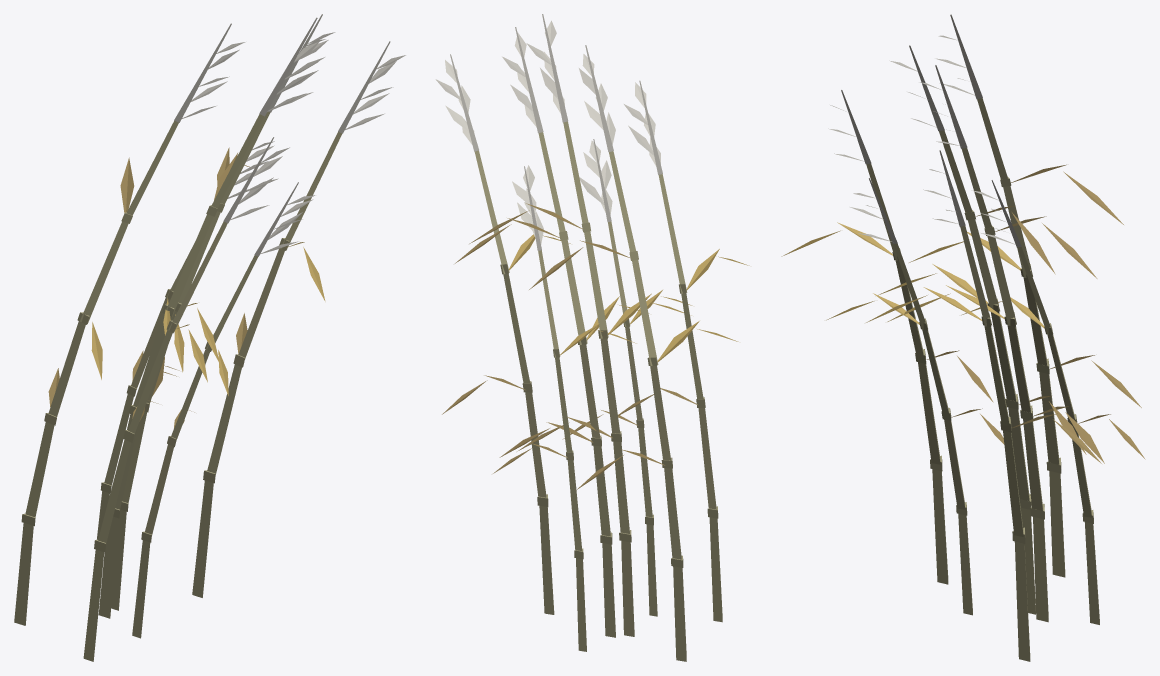
File: shui.luweicong@fruiting__autumn.glb
The picture shows the model from 3 angles, left to right: view 1: azimuth 30°, elevation 25°; view 2: azimuth 150°, elevation 25°; view 3: azimuth 270°, elevation 25°; orthographic projection. The views are drawn at different scales.
Visible parts, largest first — view 1: shui.luweicong@fruiting__autumn; view 2: shui.luweicong@fruiting__autumn; view 3: shui.luweicong@fruiting__autumn.
Boxes of the visible parts, <box> form: shui.luweicong@fruiting__autumn: <box>14,14,405,661</box>; shui.luweicong@fruiting__autumn: <box>435,14,749,661</box>; shui.luweicong@fruiting__autumn: <box>781,14,1145,661</box>.
Size of the model in its own units: 1.99 by 3.49 by 1.78.
